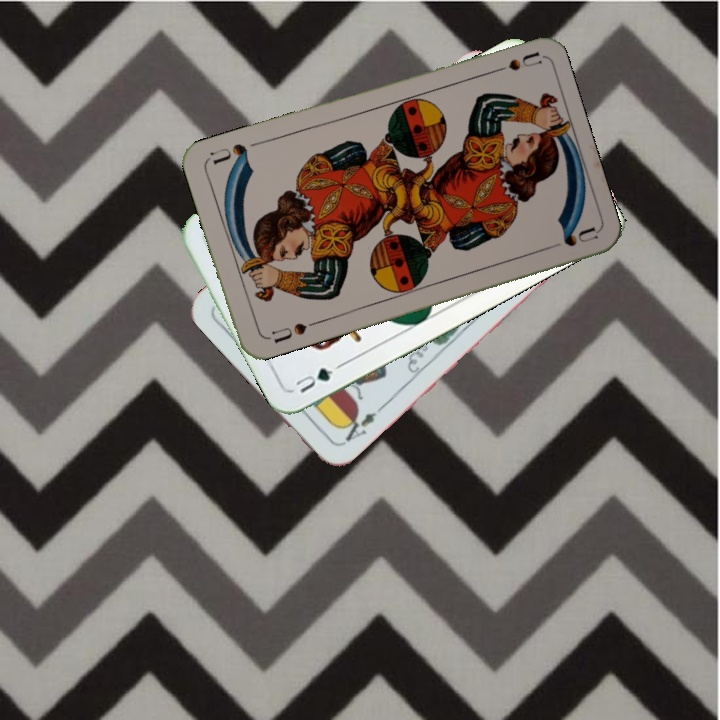EA: (337, 403, 385, 448)
GU: (291, 363, 336, 396)
SU: (483, 48, 542, 78), (262, 317, 320, 346)
